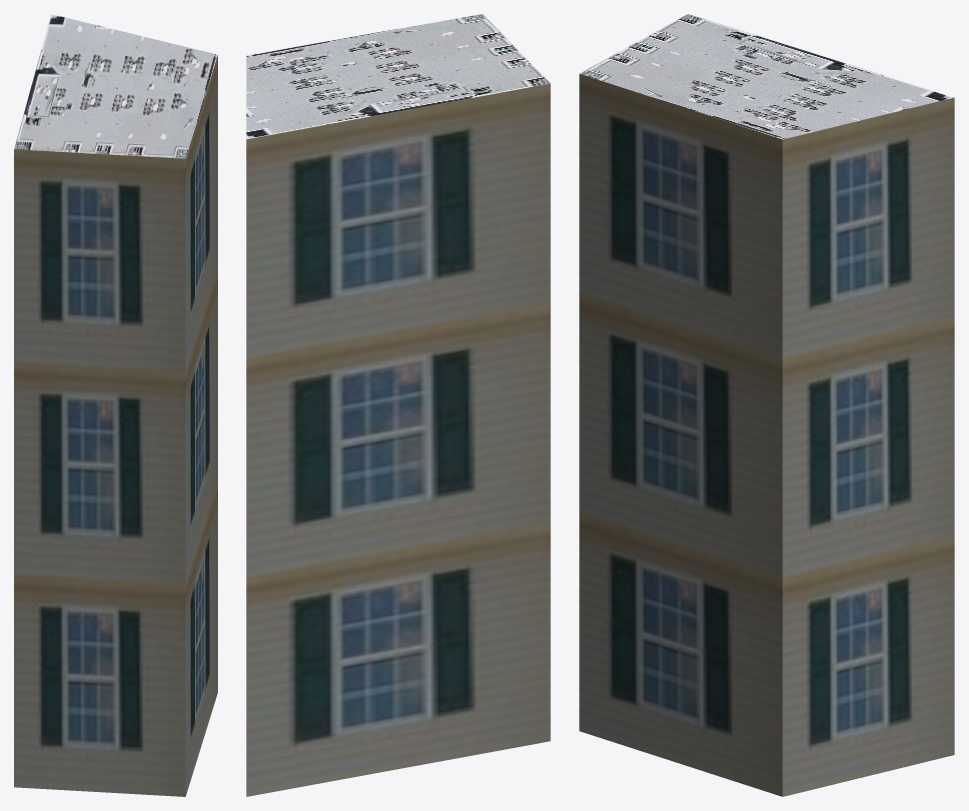
The model's file is ResTex__4702.fbx.
3 views of the same model, side by side, from view 1: azimuth 30°, elevation 25°; view 2: azimuth 150°, elevation 25°; view 3: azimuth 270°, elevation 25° (orthographic). The views are drawn at different scales.
Visible parts, largest first — view 1: CityEngineMaterial_7_m, CityEngineMaterial_4_m; view 2: CityEngineMaterial_7_m, CityEngineMaterial_4_m; view 3: CityEngineMaterial_7_m, CityEngineMaterial_4_m.
Boxes of the visible parts, x1,y1,x2,y2 form: CityEngineMaterial_7_m: (14, 55, 217, 796); CityEngineMaterial_4_m: (14, 14, 217, 158); CityEngineMaterial_7_m: (246, 83, 550, 796); CityEngineMaterial_4_m: (246, 14, 550, 139); CityEngineMaterial_7_m: (579, 74, 954, 796); CityEngineMaterial_4_m: (580, 14, 953, 139).
Bounding box in the file's own units: 3.69 × 9 × 4.65.
2 materials, 2 textured.
